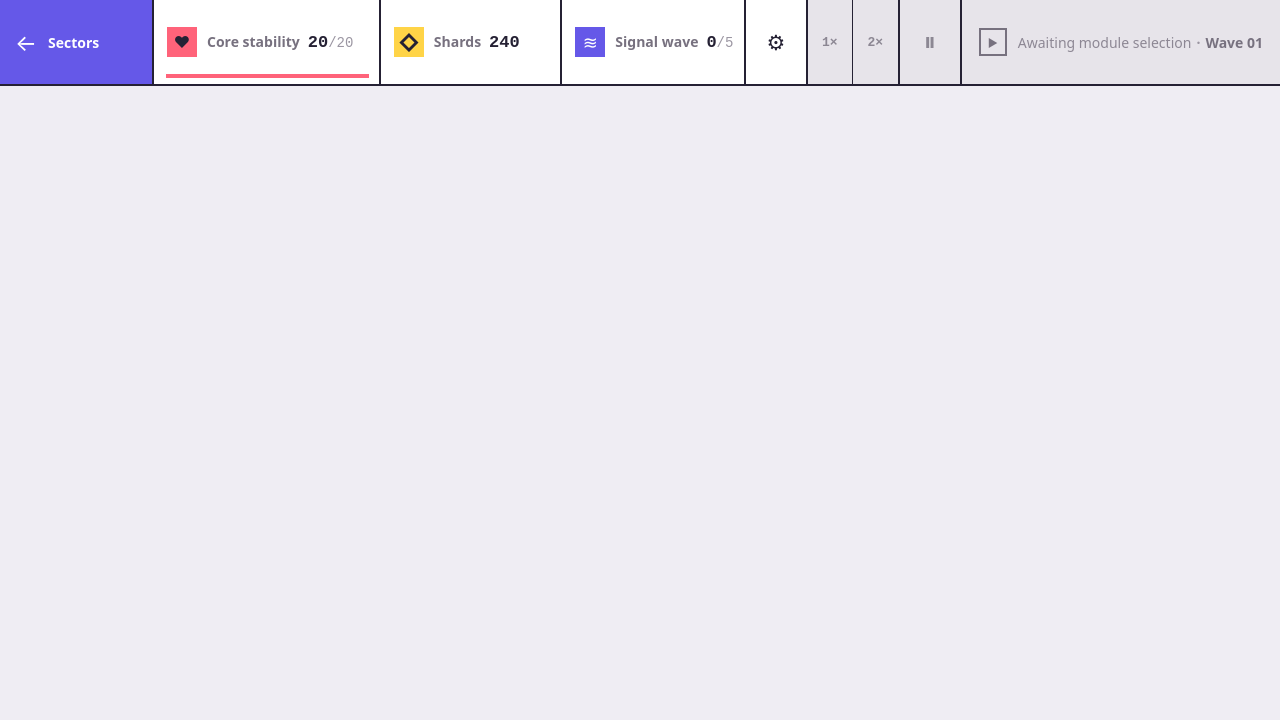
Scenario: game header › keeps settings available while choosing modules
The width and height of the screenshot is (1280, 720).
Click the button named "Settings".
click(776, 42)  # box [746,0,806,84]
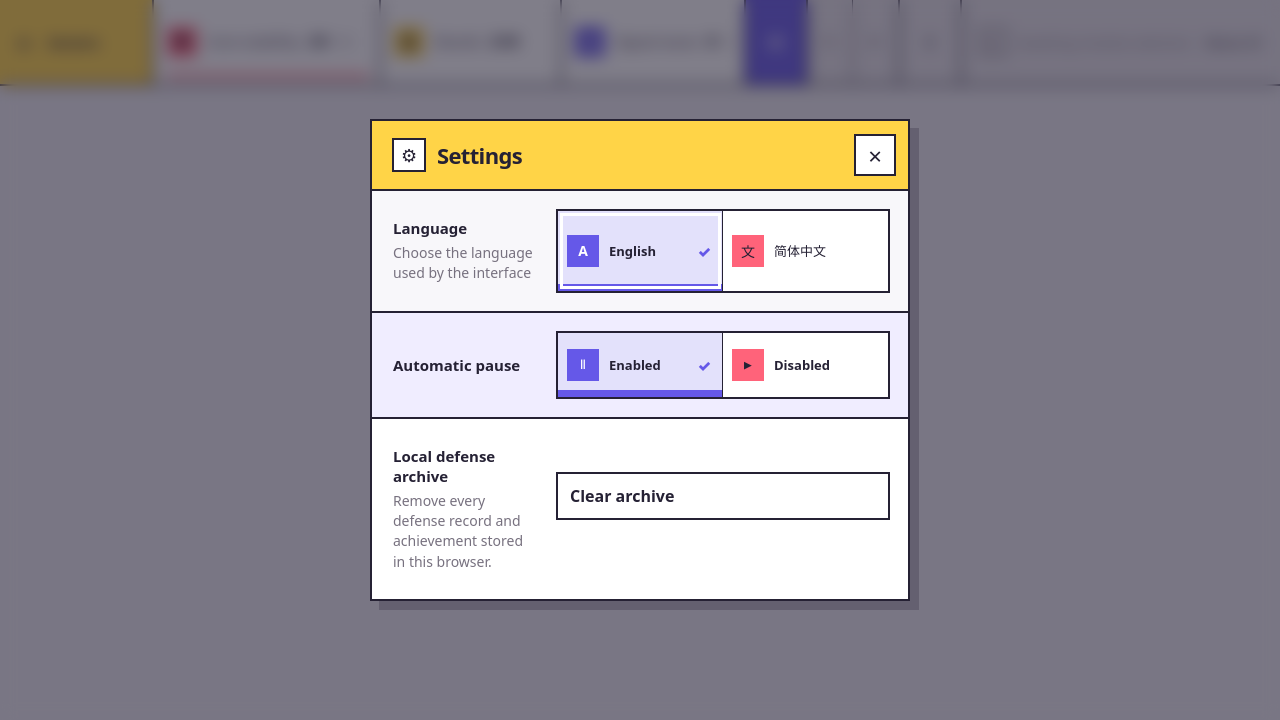
Check: the dialog "Settings" is shown, box [370,119,910,601]
